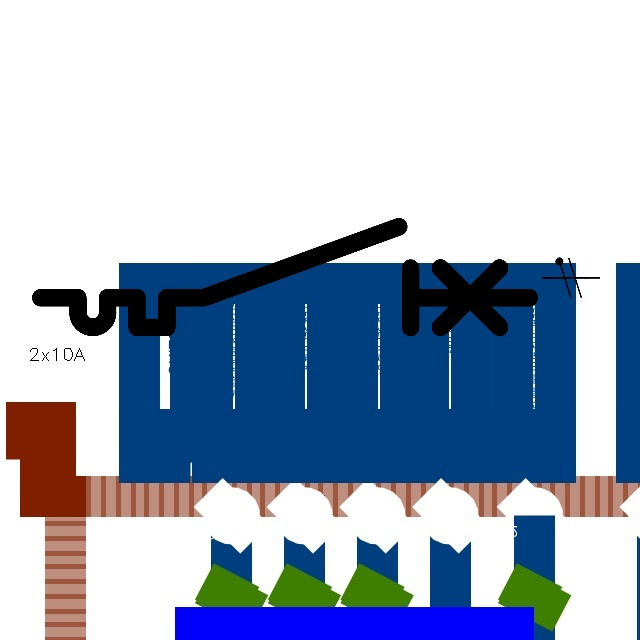interruptor_termomagnetico: (28, 214, 542, 340)
